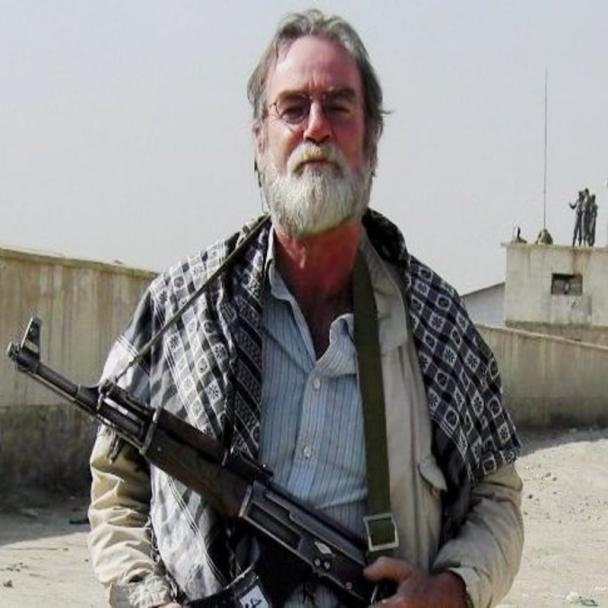Gun: (0, 304, 408, 607)
